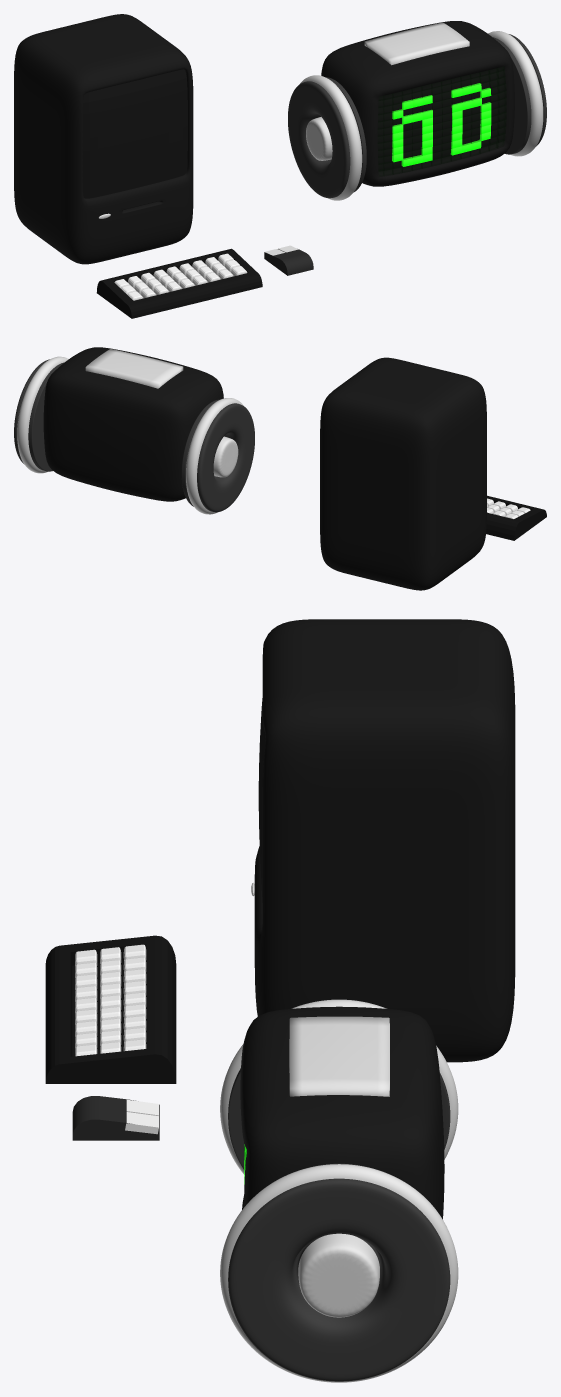
Rendered from RoboScene.glb.
The picture shows the model from 3 angles, top to bottom: view 1: azimuth 30°, elevation 25°; view 2: azimuth 150°, elevation 25°; view 3: azimuth 270°, elevation 25°; orthographic projection. The views are drawn at different scales.
Parts seen in each view (by area): view 1: Computer, Robot, Screen, Circle, Cube.001, Plane.003, Keyboard, Cube.002, Mouse; view 2: Computer, Robot, Circle, Cube.002, Plane.003, Keyboard; view 3: Computer, Circle, Robot, Plane.003, Cube.002, Keyboard, Mouse.
Boxes of the visible parts, x1,y1,x2,y2 form: Computer: (14,14,193,264); Robot: (321,21,514,186); Screen: (83,69,187,198); Circle: (288,31,546,200); Cube.001: (377,66,506,176); Plane.003: (96,248,262,318); Keyboard: (114,253,247,300); Cube.002: (364,22,469,65); Mouse: (264,245,313,275); Computer: (320,357,486,590); Robot: (43,347,223,501); Circle: (14,356,254,514); Cube.002: (85,349,183,388); Plane.003: (486,495,546,540); Keyboard: (487,498,530,518); Computer: (254,619,515,1062); Circle: (220,999,458,1382); Robot: (240,1006,444,1219); Plane.003: (45,935,176,1083); Cube.002: (289,1016,389,1096); Keyboard: (75,944,146,1056); Mouse: (72,1096,159,1140).
Bounding box in the file's own units: 2.96 × 1.19 × 1.39.
